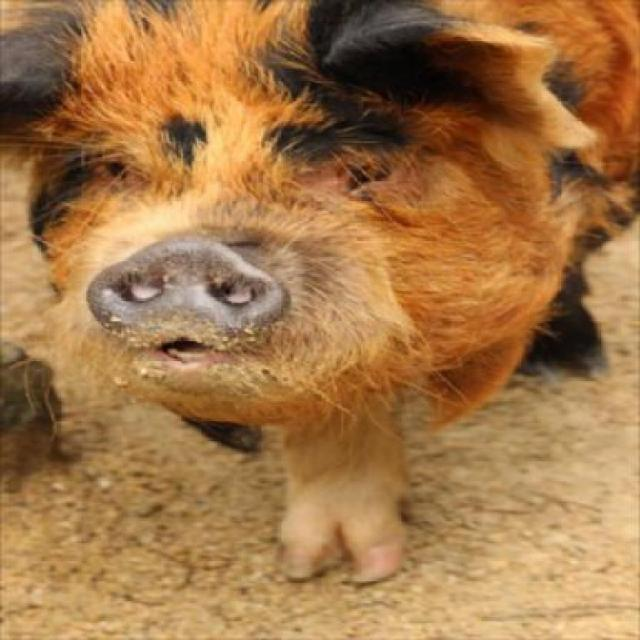pig: (0, 0, 638, 584), (0, 337, 66, 458)
